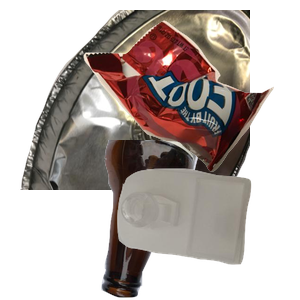glass: (99, 140, 300, 300)
metal: (18, 10, 258, 190)
plastic: (115, 166, 300, 300)
trash: (81, 18, 300, 182)
